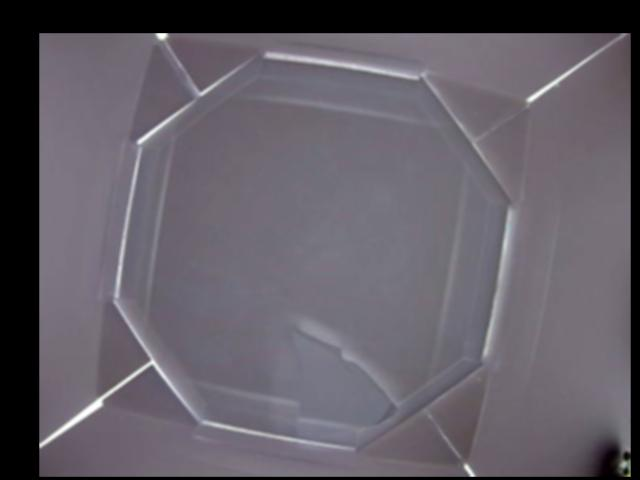China: (280, 328, 395, 438)
